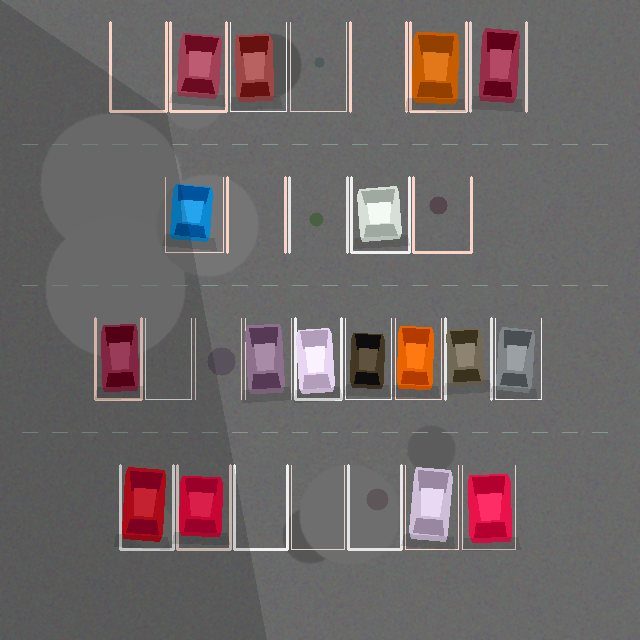space-empty: (110, 22, 166, 111), (290, 22, 346, 111), (350, 22, 406, 111), (234, 465, 287, 549), (291, 465, 344, 549), (348, 465, 401, 549), (227, 177, 285, 252), (289, 177, 347, 252), (413, 177, 471, 252), (145, 318, 191, 399), (195, 318, 241, 399)
space-occupied: (170, 22, 226, 111), (230, 22, 286, 111), (410, 22, 466, 111), (470, 22, 526, 111), (120, 465, 173, 549), (177, 465, 230, 549), (405, 465, 458, 549), (462, 465, 515, 549), (165, 177, 223, 252), (351, 177, 409, 252), (95, 318, 141, 399), (245, 318, 291, 399), (295, 318, 341, 399), (345, 318, 391, 399), (395, 318, 441, 399), (445, 318, 491, 399), (495, 318, 541, 399)
